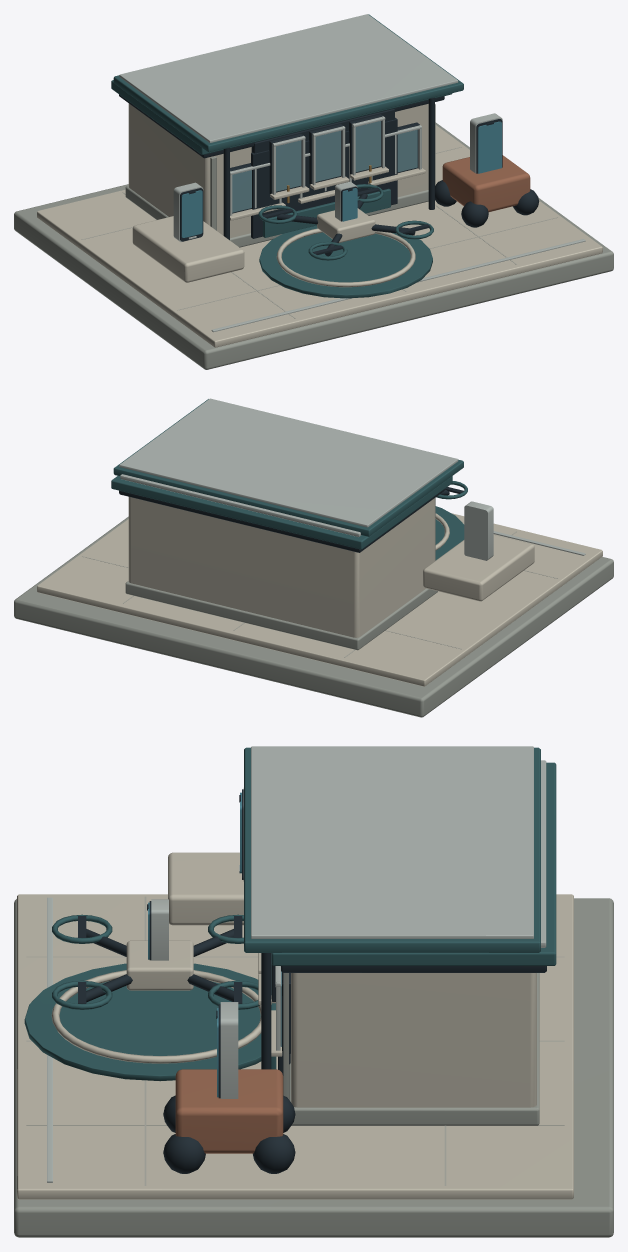
Rendered from idea-d9ab190c.glb.
3 views of the same model, one above another, from view 1: azimuth 30°, elevation 25°; view 2: azimuth 150°, elevation 25°; view 3: azimuth 270°, elevation 25° (orthographic). The views are drawn at different scales.
Visible parts, largest first — view 1: Universal Smartphone Robotics Core; view 2: Universal Smartphone Robotics Core; view 3: Universal Smartphone Robotics Core.
Part boxes in pixels (left/top/right/bottom): Universal Smartphone Robotics Core: left=14, top=14, right=613, bottom=369; Universal Smartphone Robotics Core: left=14, top=398, right=613, bottom=717; Universal Smartphone Robotics Core: left=14, top=746, right=613, bottom=1237.
Size of the model in its own units: 4.8 by 1.74 by 3.9.
